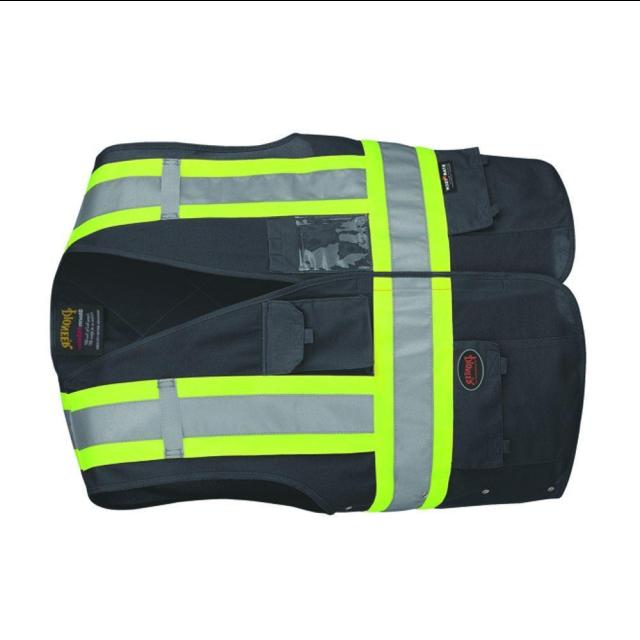jacket: (44, 99, 588, 527)
